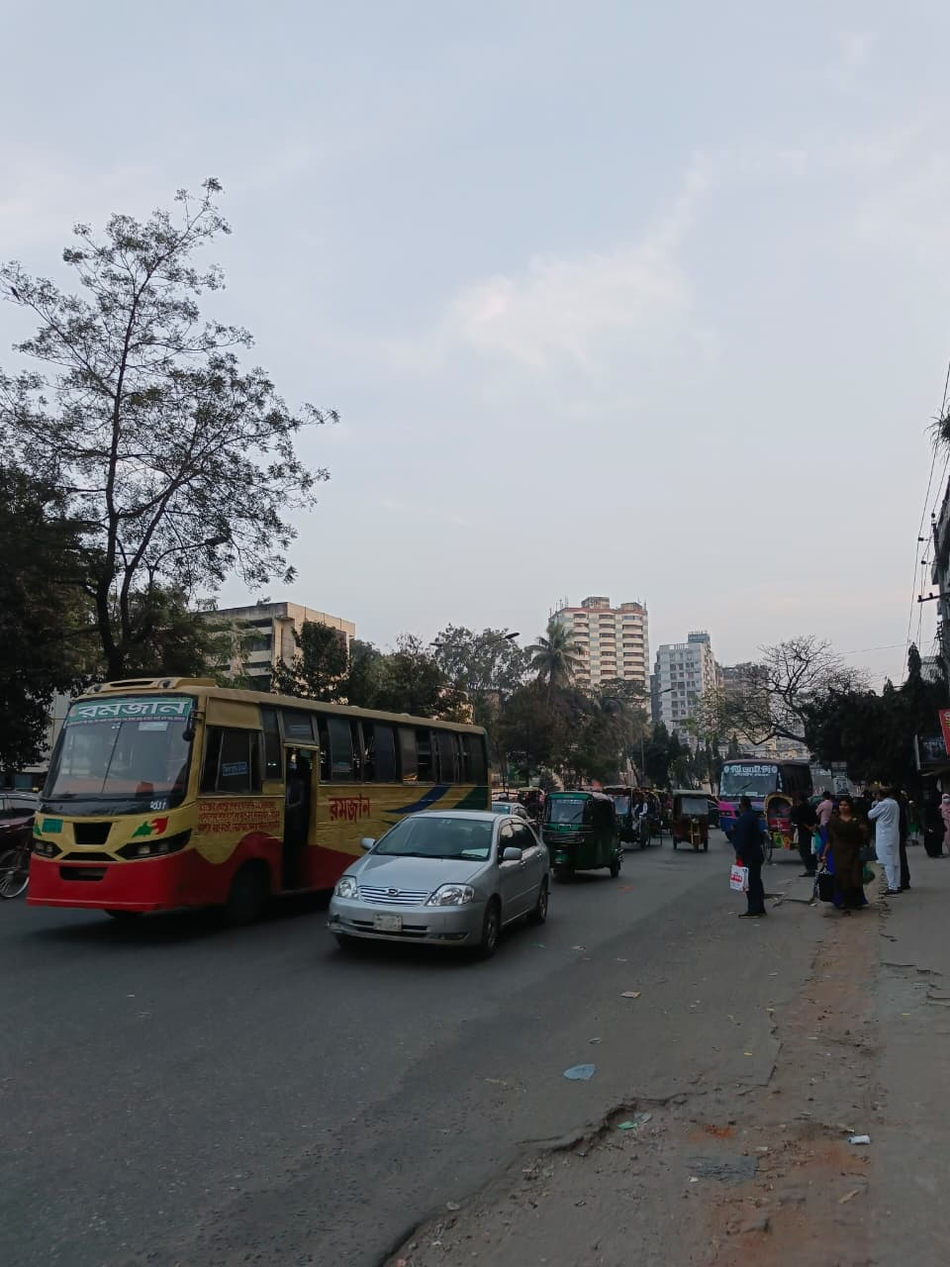Bus: (35, 619, 473, 888), (712, 735, 835, 862)
auto-ricksaw: (663, 785, 718, 858)
cng: (544, 775, 635, 890)
private car: (344, 797, 556, 975)
